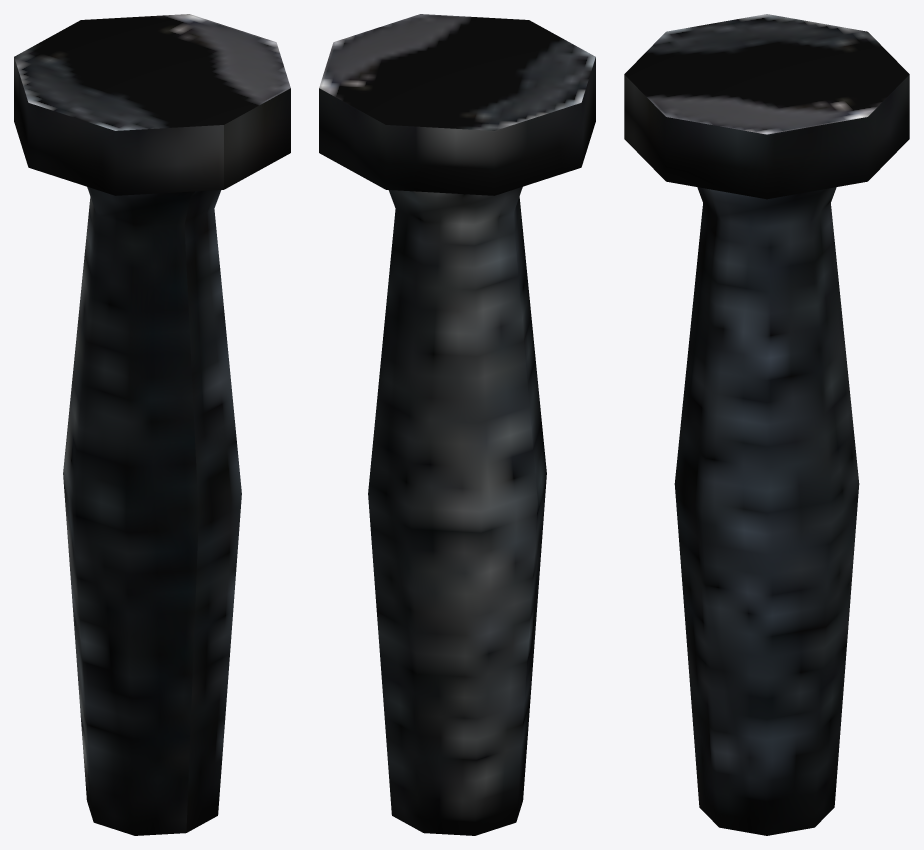
Rendered from RIS_Foregrip.fbx.
3 renders of one model, left to right at view 1: azimuth 30°, elevation 25°; view 2: azimuth 150°, elevation 25°; view 3: azimuth 270°, elevation 25°, orthographic.
Visible parts, largest first — view 1: RIS_Foregrip.001; view 2: RIS_Foregrip.001; view 3: RIS_Foregrip.001.
Boxes of the visible parts, x1,y1,x2,y2 form: RIS_Foregrip.001: [14, 14, 290, 835]; RIS_Foregrip.001: [319, 14, 595, 835]; RIS_Foregrip.001: [624, 14, 909, 835].
Size of the model in its own units: 0.024 by 0.024 by 0.068.
